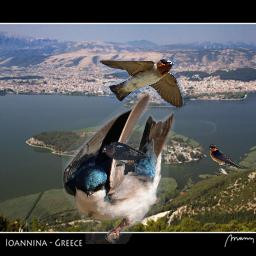Swallow: (62, 92, 175, 244), (98, 59, 184, 108), (102, 141, 148, 175), (209, 144, 245, 169)
